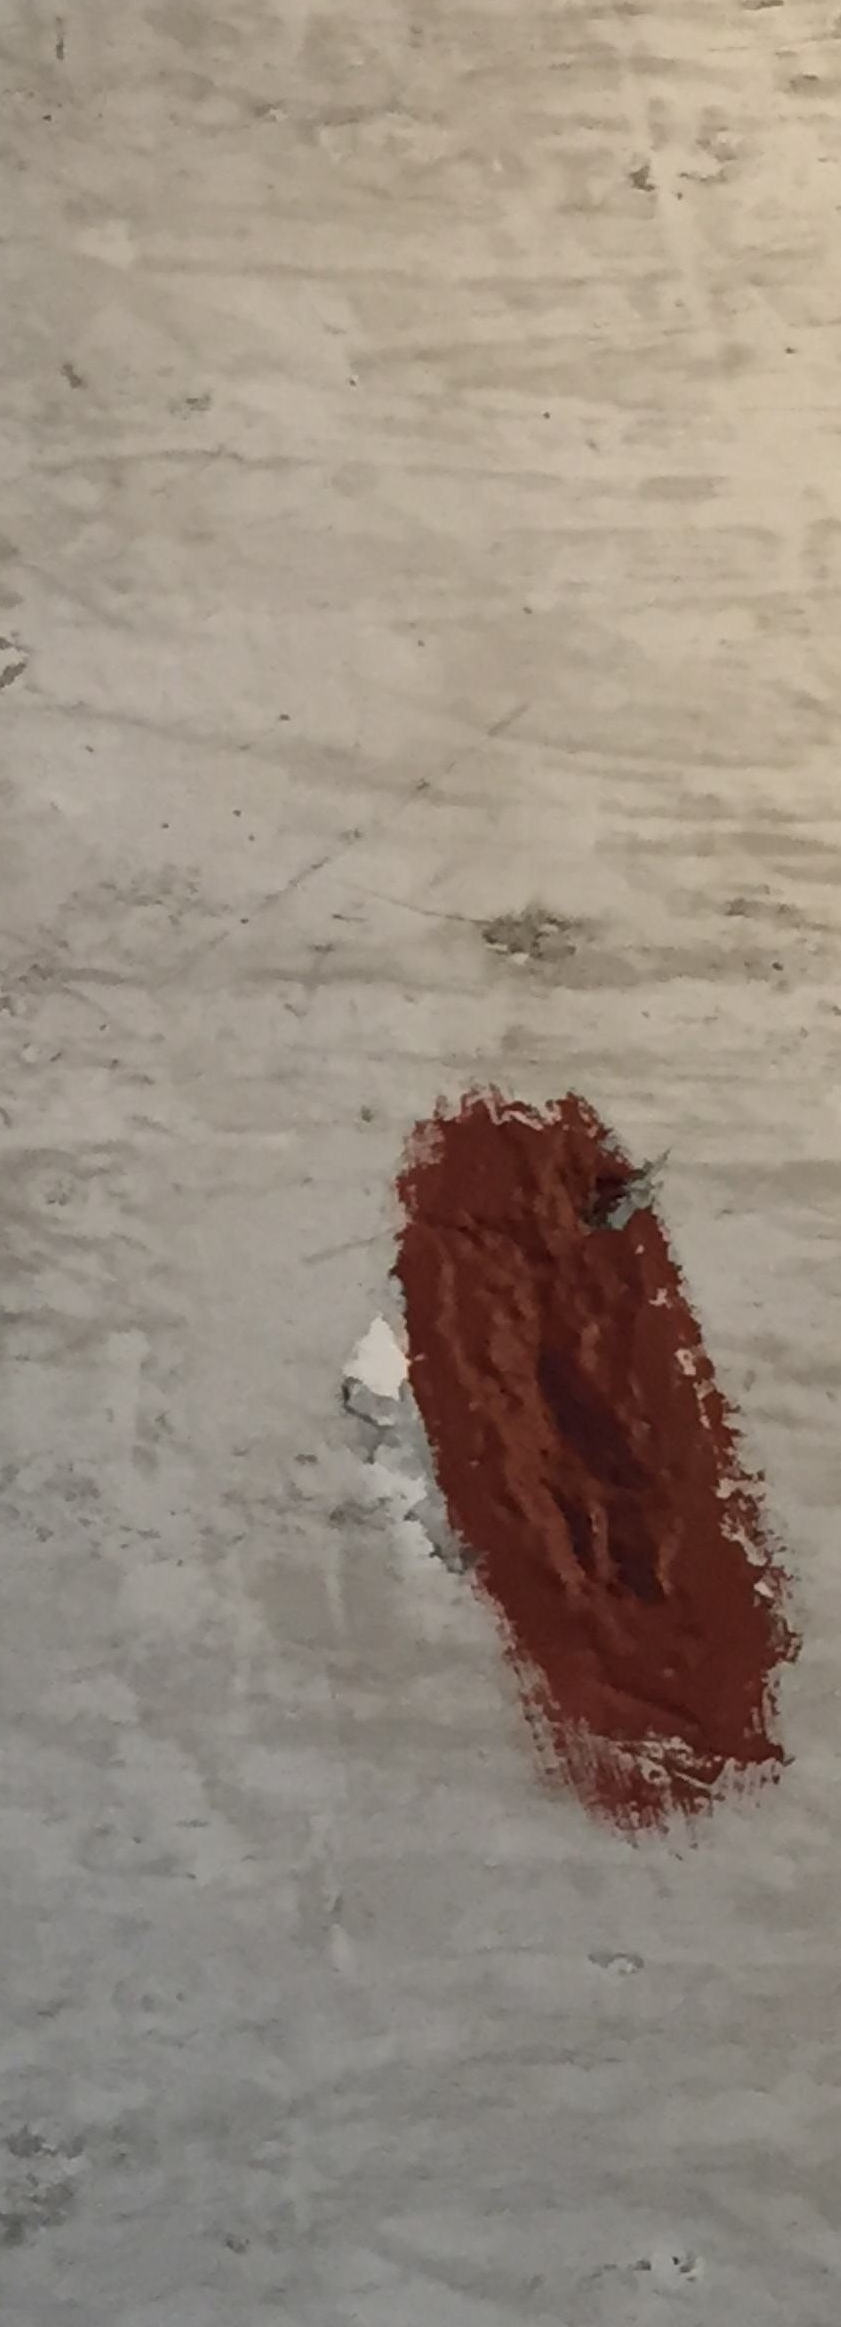Corrosion: (386, 1086, 804, 1848)
